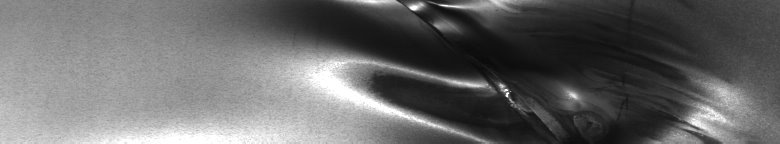ke: (340, 4, 588, 136)
